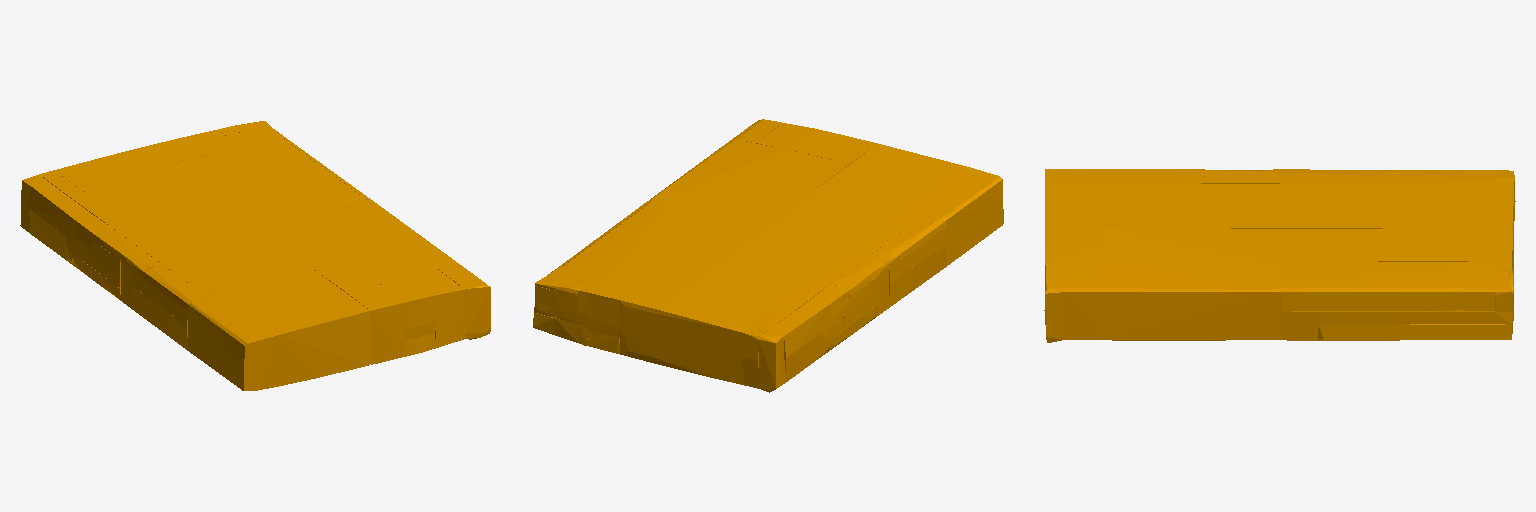
URDF robot description (box-toffifee):
<?xml version="1.0" ?>
<robot name="box-toffifee">
  <link name="baseLink">
    <contact>
      <lateral_friction value="1.0"/>
      <inertia_scaling value="3.0"/>
    </contact>
    <inertial>
      <origin rpy="0 0 0" xyz="0.000 0.000 0.000"/>
       <mass value=".1"/>
       <inertia ixx="1" ixy="0.0" ixz="0.0" iyy="1" iyz="0.0" izz="1"/>
    </inertial>
    <visual>
      <origin rpy="0 0 0" xyz="0 0 0"/>
      <geometry>
        <mesh filename="box/box-toffifee.obj" scale="1.0 1.0 1.0"/>
      </geometry>
    </visual>
    <collision>
      <origin rpy="0 0 0" xyz="0 0 0"/>
      <geometry>
        <mesh filename="../collision/box/box-toffifee.obj" scale="1.0 1.0 1.0"/>
      </geometry>
    </collision>
  </link>
</robot>
        

--- Facts derived from the render (not from the file) ---
Views: 3 orthographic renders of the robot side by side, from view 1: azimuth 30°, elevation 25°; view 2: azimuth 150°, elevation 25°; view 3: azimuth 270°, elevation 25°.
Model box-toffifee with 1 links and 0 joints (none), rooted at baseLink, posed all joints at 0.
Links seen in each view (by area): view 1: baseLink; view 2: baseLink; view 3: baseLink.
Link boxes in pixels (x1,y1,x2,y2): baseLink: [20, 121, 490, 390]; baseLink: [533, 119, 1003, 392]; baseLink: [1044, 169, 1515, 342].
Size in the robot's own frame: 0.11 by 0.1742 by 0.0241 metres.
1 mesh visuals loaded from 1 distinct referenced files (1 OBJ).